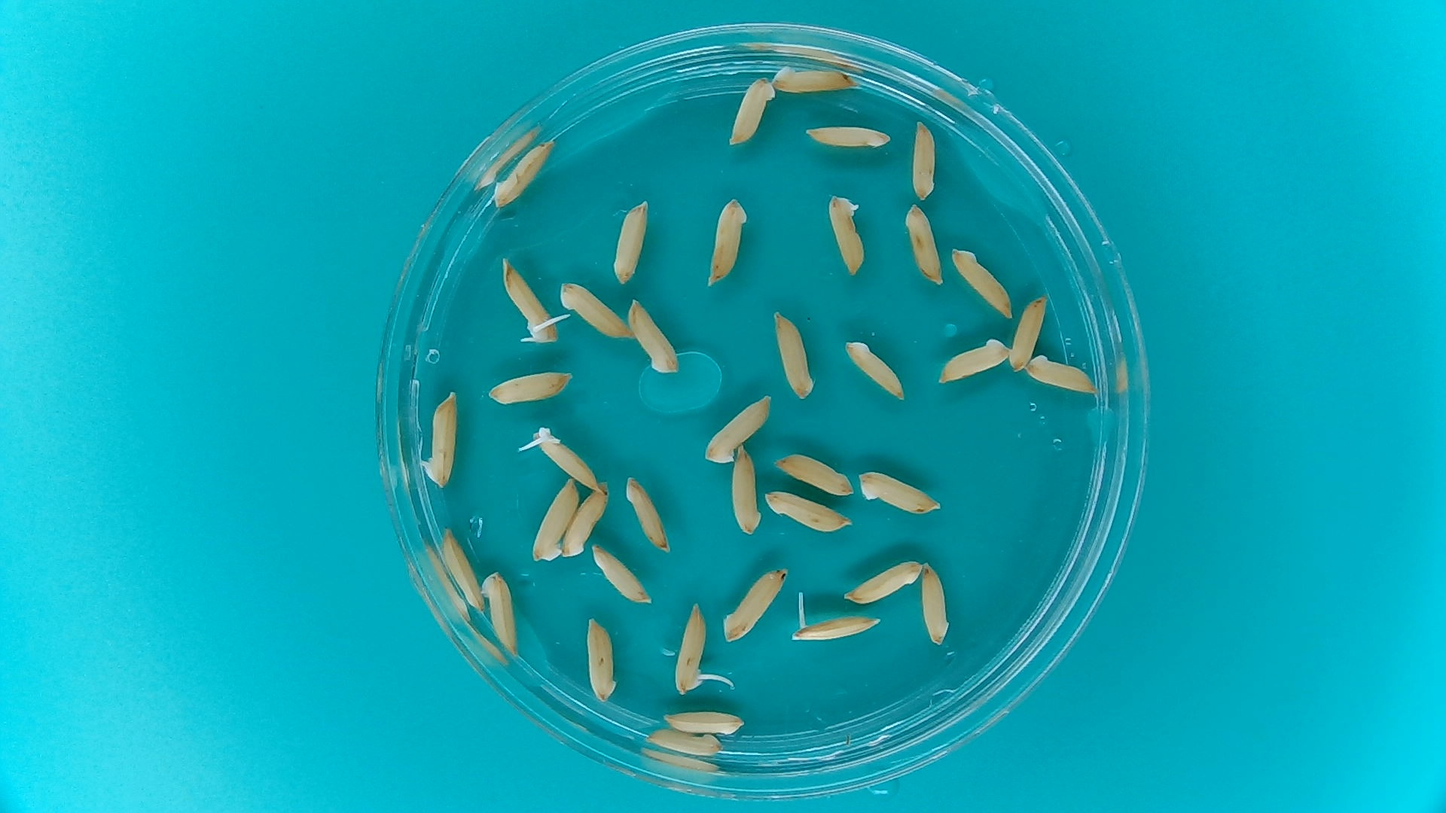no: (721, 565, 788, 647), (949, 245, 1015, 321), (704, 394, 773, 466), (491, 137, 557, 210), (857, 467, 943, 518), (773, 309, 820, 402), (418, 391, 462, 490), (558, 282, 630, 342), (704, 196, 751, 287), (531, 477, 580, 564), (844, 339, 909, 404), (627, 297, 681, 375), (438, 523, 484, 612), (764, 489, 854, 534), (841, 558, 922, 605), (903, 202, 947, 288), (590, 544, 651, 605), (611, 198, 652, 288), (774, 452, 856, 497), (624, 475, 671, 553), (827, 191, 868, 277), (938, 336, 1010, 384), (562, 484, 609, 557), (728, 75, 776, 146), (486, 368, 575, 406), (731, 445, 764, 536), (1025, 354, 1100, 394), (484, 573, 520, 656), (585, 615, 618, 705), (1011, 294, 1047, 375), (771, 64, 859, 93), (921, 559, 950, 647), (910, 119, 940, 204), (661, 708, 749, 735), (804, 125, 893, 150), (644, 731, 728, 757)
yes: (500, 263, 555, 344), (530, 429, 599, 488), (670, 604, 711, 695), (793, 614, 880, 642)
